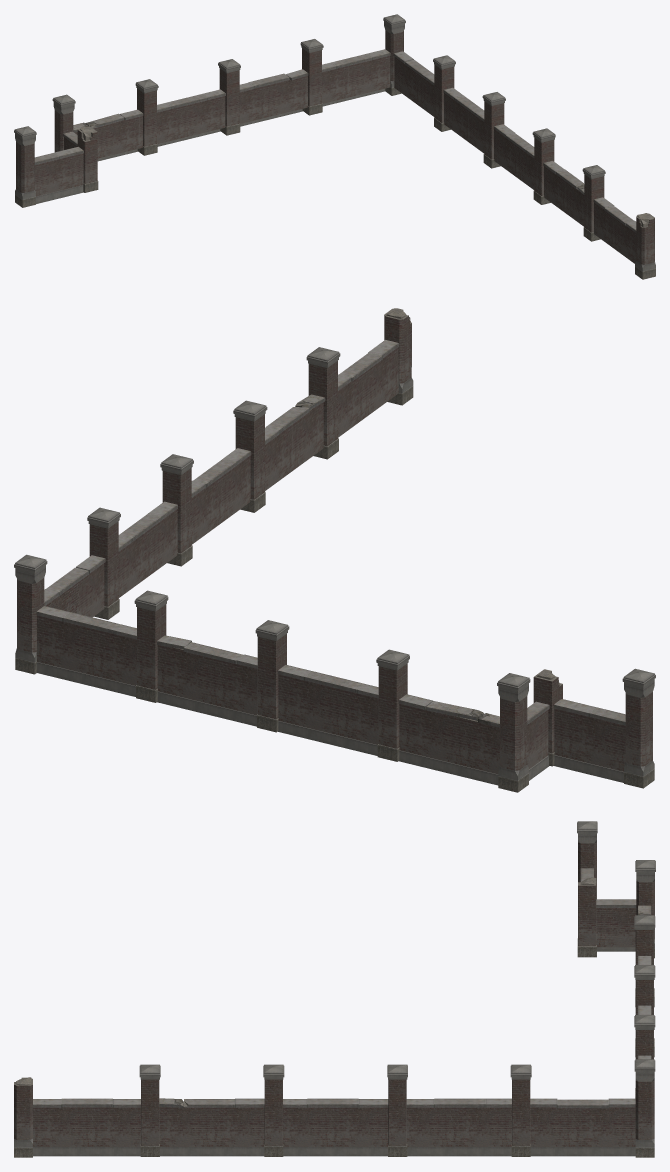
File: Cemetery_STR_OuterWall_02.fbx
3 views of the same model, one above another, from view 1: azimuth 30°, elevation 25°; view 2: azimuth 150°, elevation 25°; view 3: azimuth 270°, elevation 25° (orthographic). The views are drawn at different scales.
Visible parts, largest first — view 1: Cemetery_STR_OuterWall_02; view 2: Cemetery_STR_OuterWall_02; view 3: Cemetery_STR_OuterWall_02.
Boxes of the visible parts, <box> form: Cemetery_STR_OuterWall_02: <box>14,14,655,279</box>; Cemetery_STR_OuterWall_02: <box>14,308,655,792</box>; Cemetery_STR_OuterWall_02: <box>14,821,655,1157</box>.
Size of the model in its own units: 2023 by 360 by 2232.
1 material, 1 textured.
